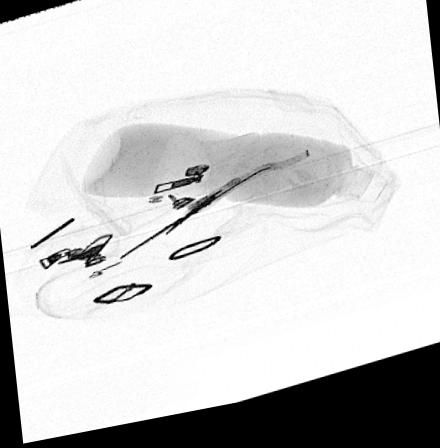Scissors: (114, 158, 316, 267)
